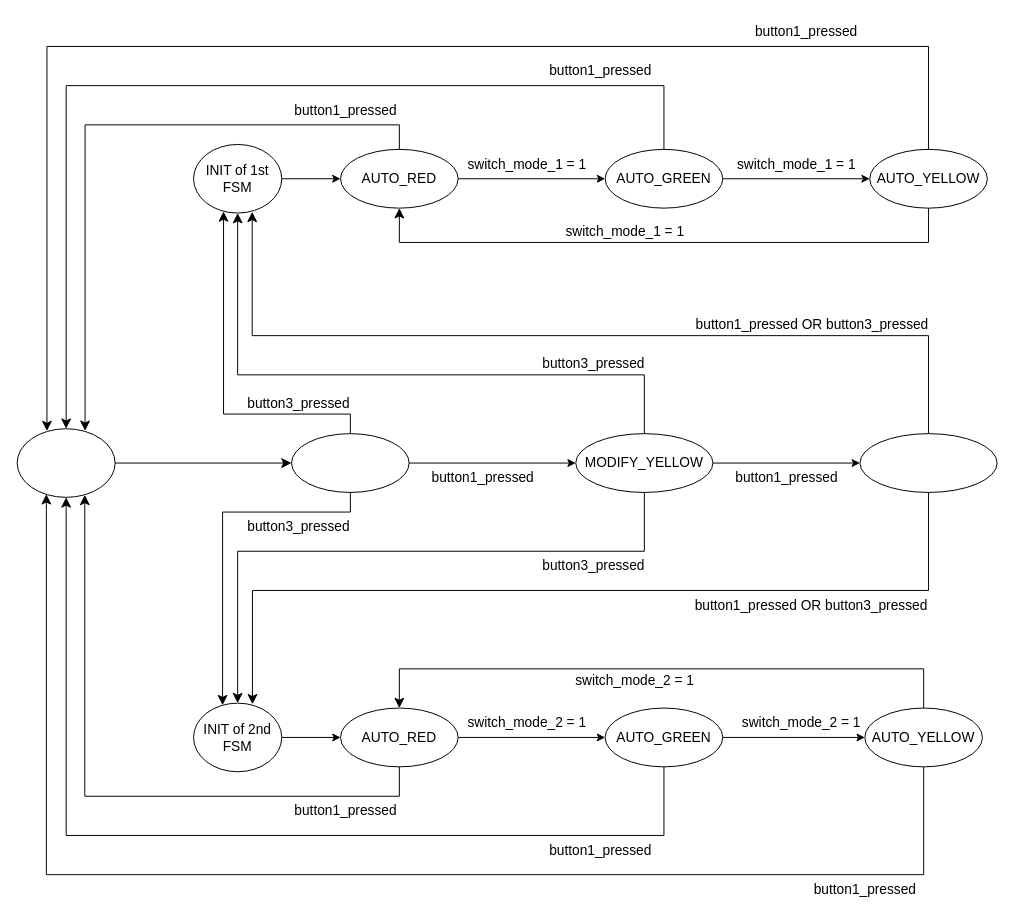
Some shapes in this 1014 by 921 pixel diagram are drawn without their labels. Here are the shapes that lost their labels. From the top down, the centre of each, then its label:
At (x=65, y=462): "INIT".
At (x=350, y=462): "MODIFY_RED".
At (x=928, y=462): "MODIFY_GREEN".
